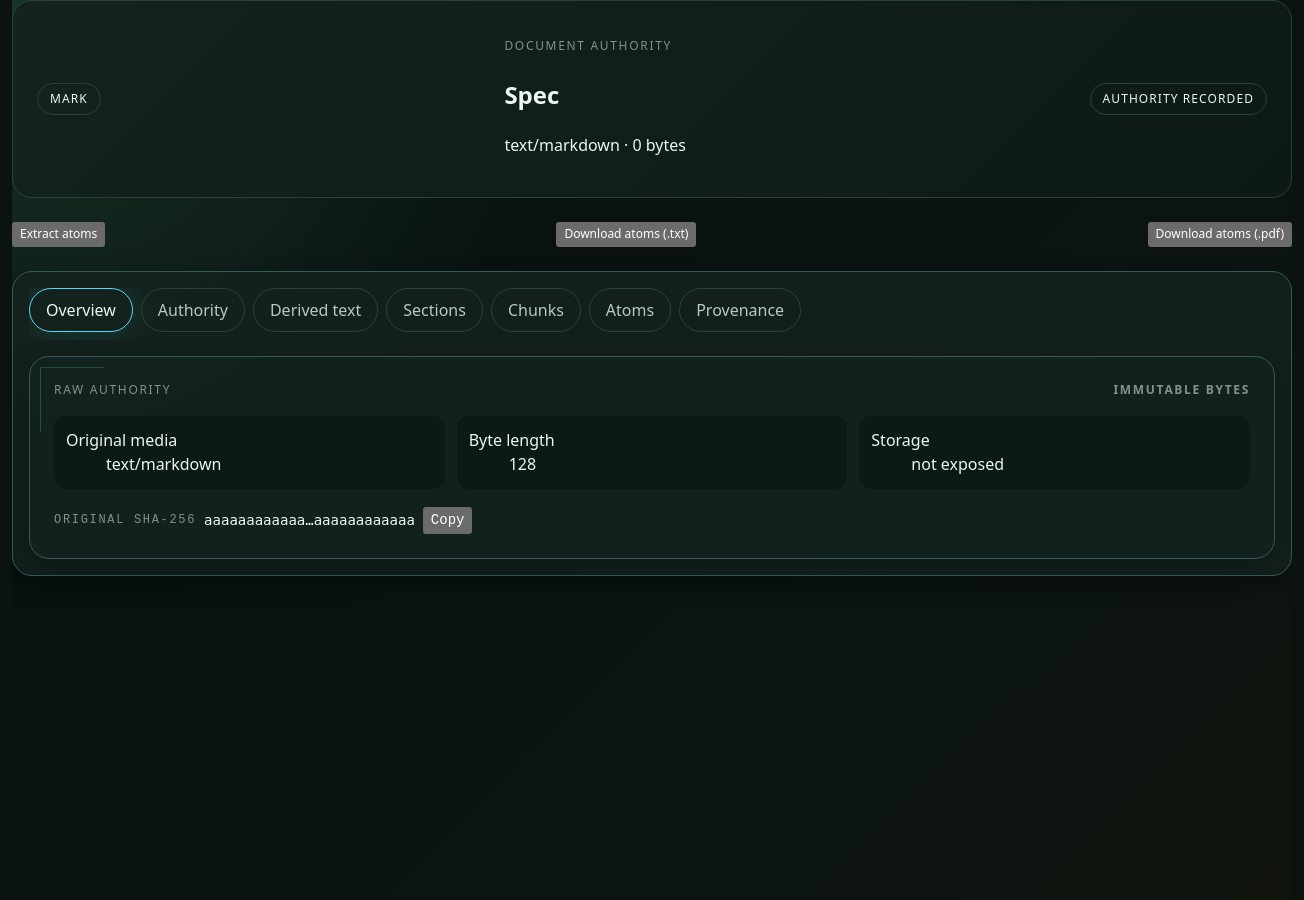
Test case: source workspace › explains a genuine zero-atom extraction result instead of leaving it ambiguous
Expected: the heading "Spec" is shown, [504,78,559,110]
Click the button "Extract atoms": (59, 235) [12,222,105,247]
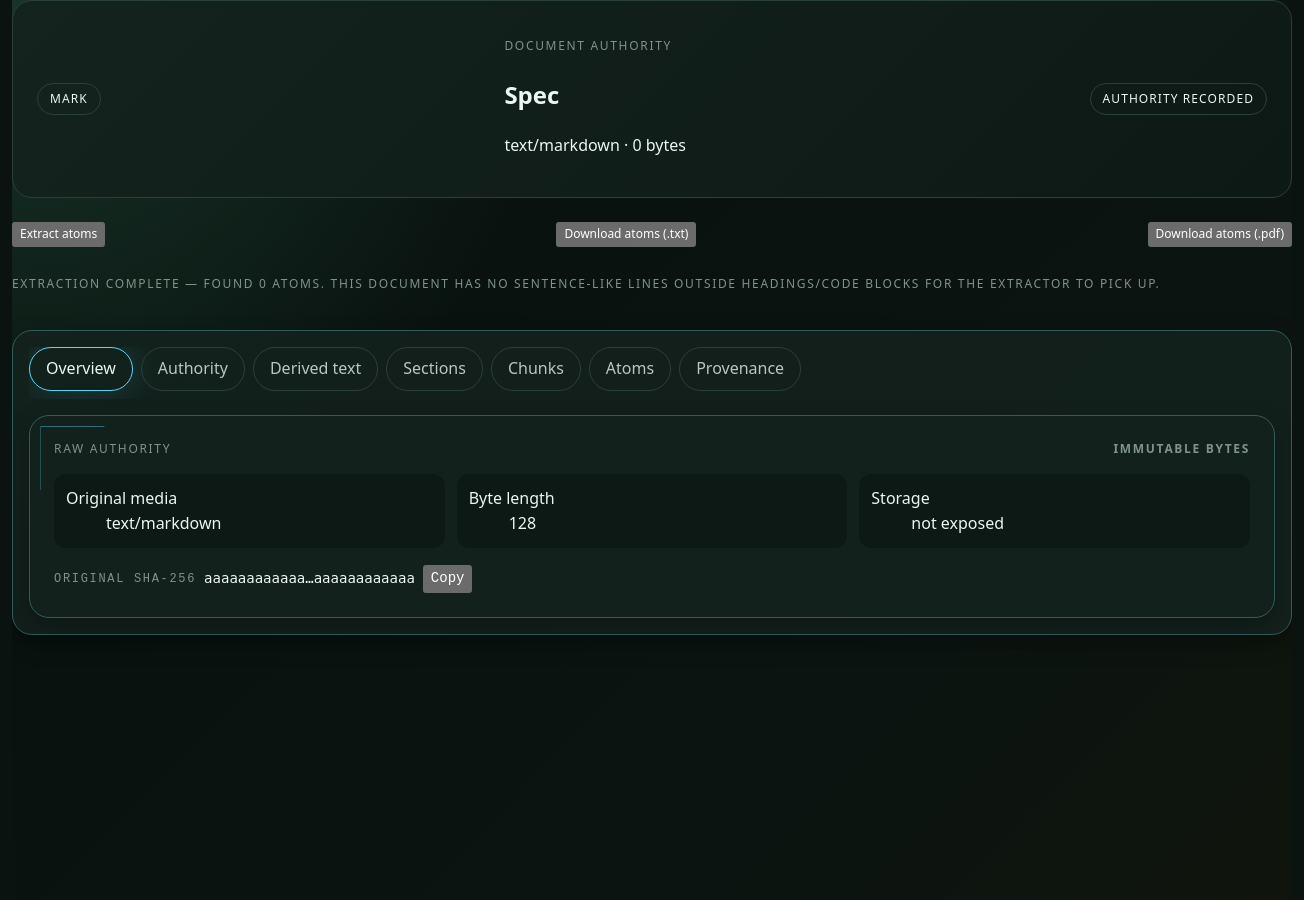
Now the text "found 0 atoms" is shown, box [12,275,1160,292]
